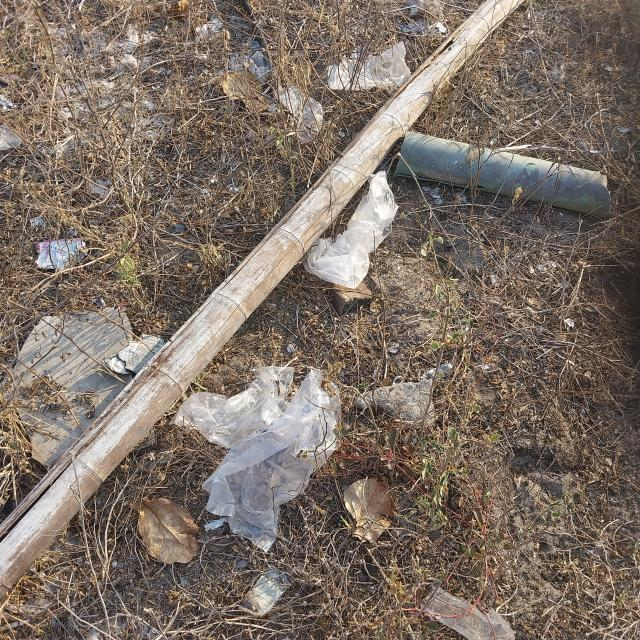Single-layer Plastic: (173, 360, 355, 556), (303, 169, 407, 298), (327, 39, 414, 92)
